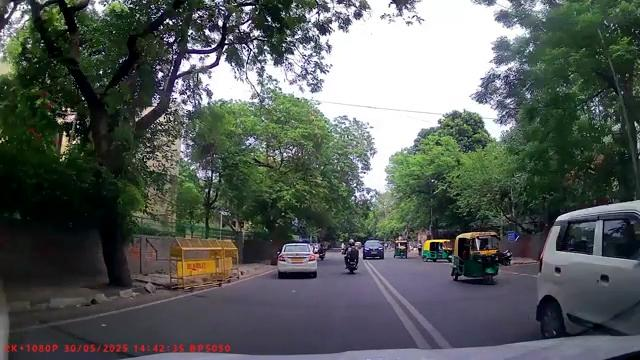motorcycle_with_helmet: (343, 238, 360, 274)
